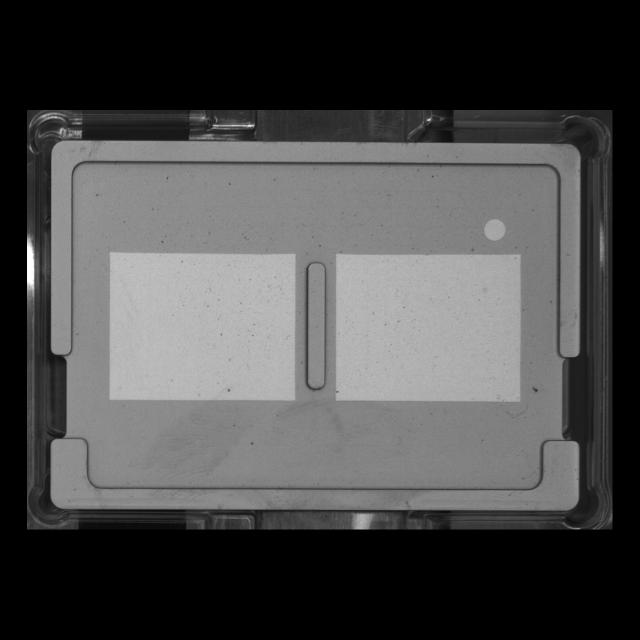door: (42, 424, 590, 520)
point: (474, 208, 515, 250)
